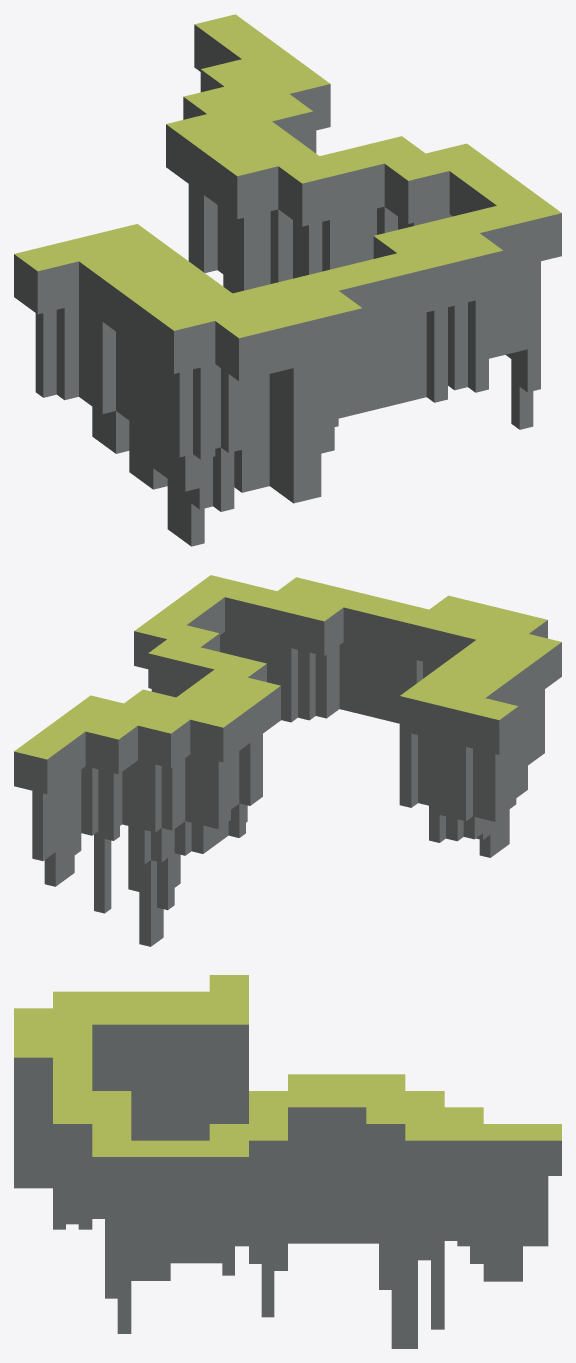
File: LEVEL_3.fbx
The picture shows the model from 3 angles, top to bottom: view 1: azimuth 30°, elevation 25°; view 2: azimuth 150°, elevation 25°; view 3: azimuth 270°, elevation 25°; orthographic projection. The views are drawn at different scales.
Parts seen in each view (by area): view 1: Level_3; view 2: Level_3; view 3: Level_3.
Part boxes in pixels (x1,y1,x2,y2): Level_3: (14,14,561,546); Level_3: (14,575,561,946); Level_3: (14,975,561,1348).
Bounding box in the file's own units: 2200 × 1329 × 2800.
